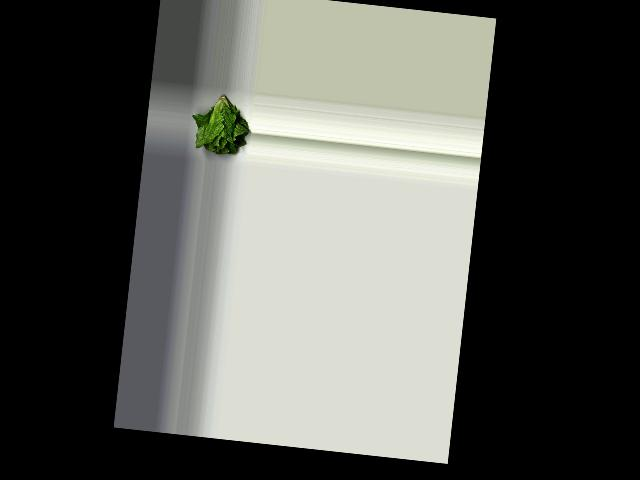lettuce: (194, 90, 252, 160)
